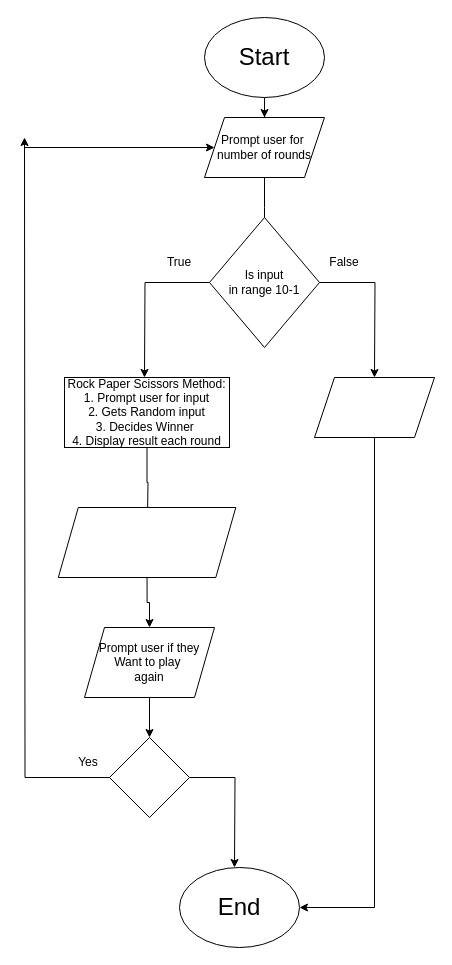
Some shapes in this 452 by 965 pixel diagram are drawn without their labels. Here are the shapes that lost their labels. From the top down, the box of each, then its label:
(314, 376, 434, 438): Print Error Message
(57, 506, 236, 578): Display number of ties, wins computer wins and overall Winner
(108, 736, 190, 818): Is input yes/no?
